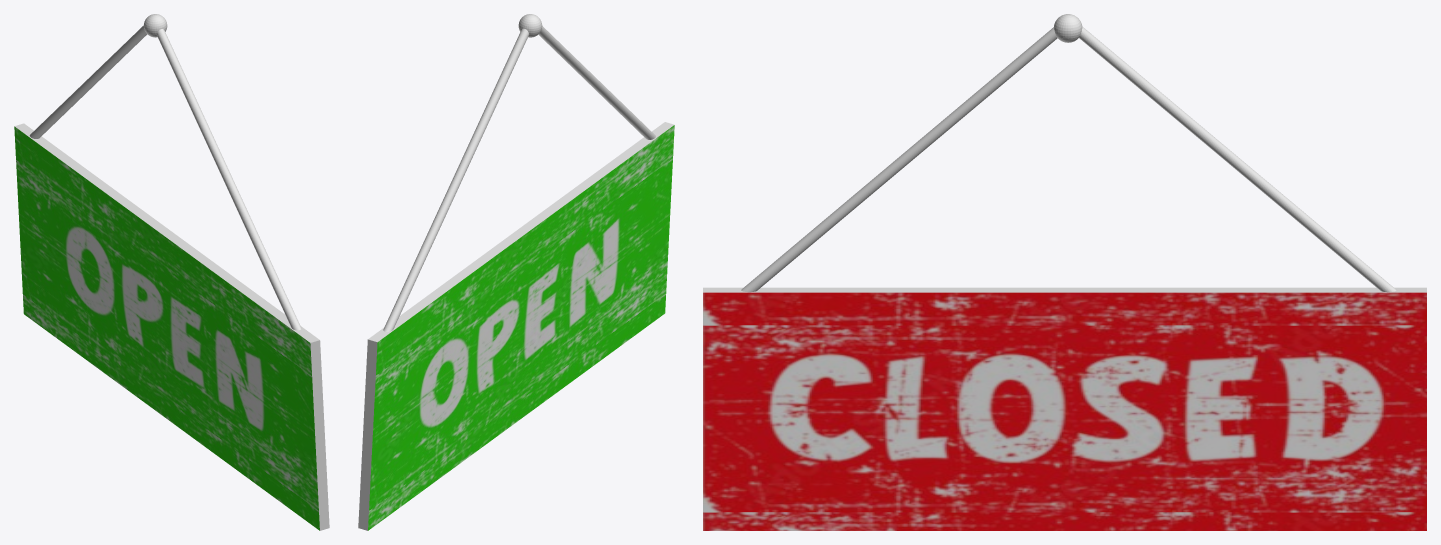
The model's file is signBoard.glb.
3 views of the same model, side by side, from view 1: azimuth 30°, elevation 25°; view 2: azimuth 150°, elevation 25°; view 3: azimuth 270°, elevation 25° (orthographic). The views are drawn at different scales.
Visible parts, largest first — view 1: Cylinder; view 2: Cylinder; view 3: Cylinder.
Boxes of the visible parts, x1=… form: Cylinder: x1=14, y1=14, x2=329, y2=530; Cylinder: x1=358, y1=14, x2=674, y2=530; Cylinder: x1=703, y1=14, x2=1426, y2=530.
Size of the model in its own units: 0.0195 by 0.2184 by 0.2857.
3 materials, 2 textured.
